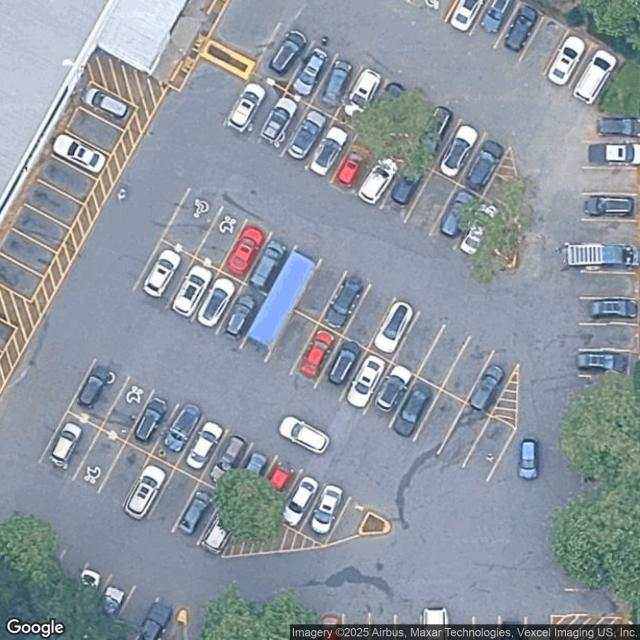car: (390, 377, 439, 442), (457, 196, 506, 260), (571, 45, 621, 107), (318, 273, 367, 334), (122, 461, 170, 523), (343, 352, 392, 412), (159, 396, 207, 457), (221, 219, 268, 281), (340, 63, 388, 123), (543, 30, 590, 89), (370, 297, 417, 356), (194, 272, 241, 330), (170, 261, 216, 320), (437, 120, 482, 180), (355, 152, 403, 208), (460, 136, 507, 193), (412, 103, 457, 162), (305, 479, 347, 542), (283, 106, 330, 162), (182, 417, 228, 474), (141, 243, 186, 301), (266, 23, 313, 78), (306, 122, 352, 178), (258, 93, 304, 148), (255, 456, 300, 512), (499, 0, 543, 57), (372, 361, 417, 416), (289, 43, 332, 100), (247, 234, 290, 290), (466, 359, 509, 415), (207, 431, 250, 487), (277, 475, 323, 527), (198, 504, 243, 557), (176, 483, 219, 538), (438, 186, 481, 240), (324, 335, 367, 389), (316, 55, 358, 110), (46, 416, 88, 471), (329, 140, 372, 193), (297, 326, 338, 381), (232, 445, 272, 500), (221, 288, 262, 341), (132, 392, 172, 446), (228, 80, 267, 130), (75, 362, 114, 410), (92, 578, 130, 625), (388, 161, 425, 209), (445, 0, 489, 35), (71, 564, 104, 609), (479, 0, 519, 35), (586, 142, 639, 166), (578, 349, 630, 373), (586, 196, 637, 217), (587, 298, 638, 319), (595, 116, 640, 139), (421, 604, 449, 640), (320, 613, 342, 637)
lot_boundary: (1, 0, 639, 639)
objects: (242, 245, 322, 353), (224, 505, 325, 555), (200, 38, 255, 81), (551, 615, 639, 639), (491, 364, 518, 430), (356, 513, 391, 533), (166, 609, 186, 639)
stall: (39, 411, 101, 479), (67, 361, 128, 429), (253, 23, 314, 91), (162, 188, 222, 257), (134, 240, 194, 307), (226, 71, 285, 139), (567, 43, 624, 109), (406, 171, 457, 236), (195, 208, 246, 271), (220, 220, 271, 283), (318, 273, 369, 336), (368, 299, 419, 362), (417, 326, 468, 389), (464, 415, 515, 478), (414, 390, 465, 453), (390, 376, 441, 439), (366, 363, 417, 426), (340, 350, 391, 413), (315, 337, 366, 400), (291, 324, 342, 387), (151, 404, 202, 467), (101, 379, 152, 442), (200, 431, 251, 494), (173, 482, 224, 545), (225, 442, 276, 505), (250, 456, 301, 519), (123, 455, 174, 518), (381, 157, 432, 220), (257, 92, 308, 155), (307, 118, 358, 181), (332, 132, 383, 195), (356, 146, 407, 209), (541, 29, 592, 92), (311, 55, 362, 118), (335, 67, 386, 130), (385, 95, 436, 158), (360, 81, 411, 144), (343, 287, 394, 349), (393, 313, 444, 375), (442, 340, 493, 402), (466, 353, 517, 415), (266, 311, 317, 373), (127, 392, 178, 454), (176, 417, 227, 479), (274, 470, 325, 532), (198, 494, 249, 556), (99, 443, 150, 505), (148, 468, 199, 530), (456, 200, 507, 262), (434, 121, 485, 183), (282, 106, 333, 168), (285, 42, 336, 104), (410, 109, 461, 171), (191, 272, 242, 334), (217, 283, 268, 345), (244, 233, 295, 295), (295, 260, 345, 323), (439, 403, 489, 466), (459, 134, 509, 197), (300, 483, 350, 545), (74, 430, 124, 492), (432, 186, 482, 248), (493, 3, 543, 65), (517, 16, 567, 78), (169, 257, 219, 319), (470, 0, 522, 49), (45, 549, 89, 602), (112, 586, 156, 638), (67, 562, 111, 614), (89, 575, 133, 627), (327, 498, 371, 545), (133, 600, 176, 639), (445, 0, 490, 34), (580, 350, 638, 376), (582, 168, 639, 194), (581, 272, 638, 298), (580, 324, 637, 350), (583, 220, 640, 246), (583, 245, 640, 271), (583, 117, 640, 143), (582, 142, 639, 168), (583, 195, 640, 221), (582, 298, 638, 324), (318, 612, 346, 639), (341, 614, 370, 638), (367, 616, 396, 639), (445, 616, 473, 639), (472, 616, 500, 639), (497, 616, 525, 639), (523, 616, 551, 639), (420, 616, 448, 639), (393, 616, 421, 639)
